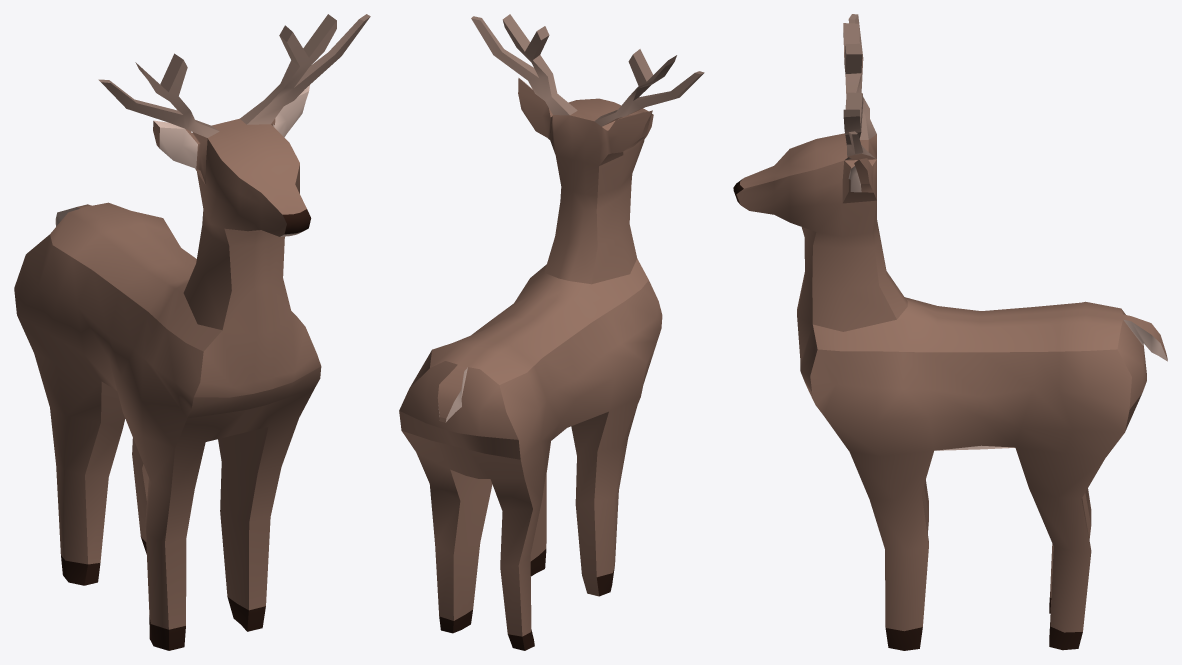
Rendered from deer.glb.
3 views of the same model, side by side, from view 1: azimuth 30°, elevation 25°; view 2: azimuth 150°, elevation 25°; view 3: azimuth 270°, elevation 25° (orthographic). The views are drawn at different scales.
Visible parts, largest first — view 1: pCylinder1.004; view 2: pCylinder1.004; view 3: pCylinder1.004.
Boxes of the visible parts, x1=… form: pCylinder1.004: x1=14, y1=14, x2=370, y2=650; pCylinder1.004: x1=399, y1=14, x2=704, y2=650; pCylinder1.004: x1=733, y1=14, x2=1167, y2=650.
Bounding box in the file's own units: 0.4015 × 0.8714 × 0.6114.
Materials: 1 (1 with a texture image).
